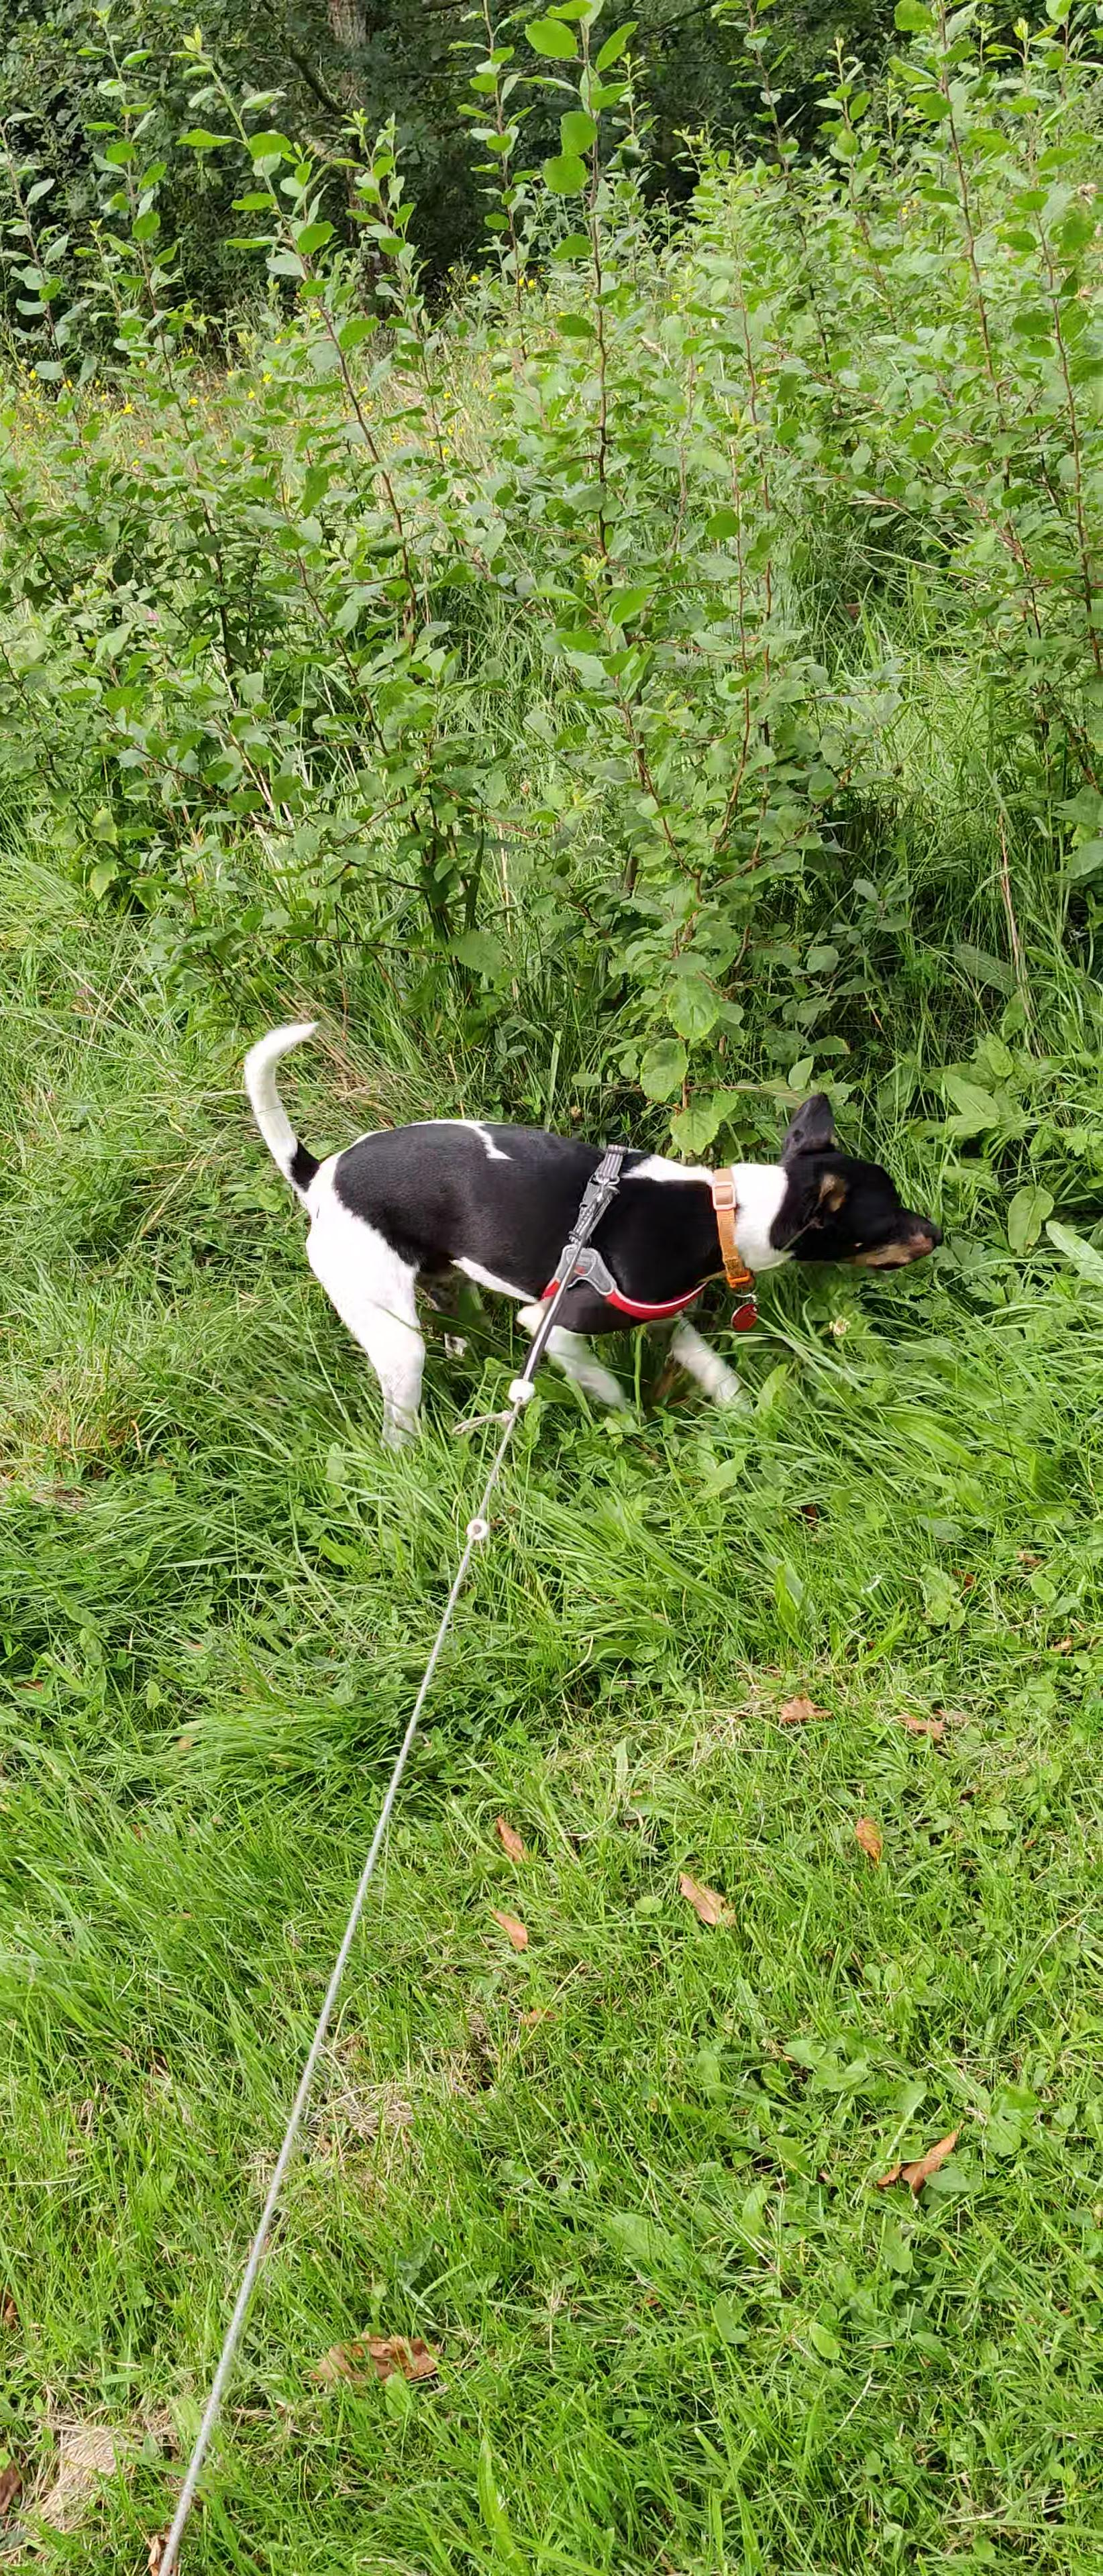Dog: (220, 1005, 950, 1447)
